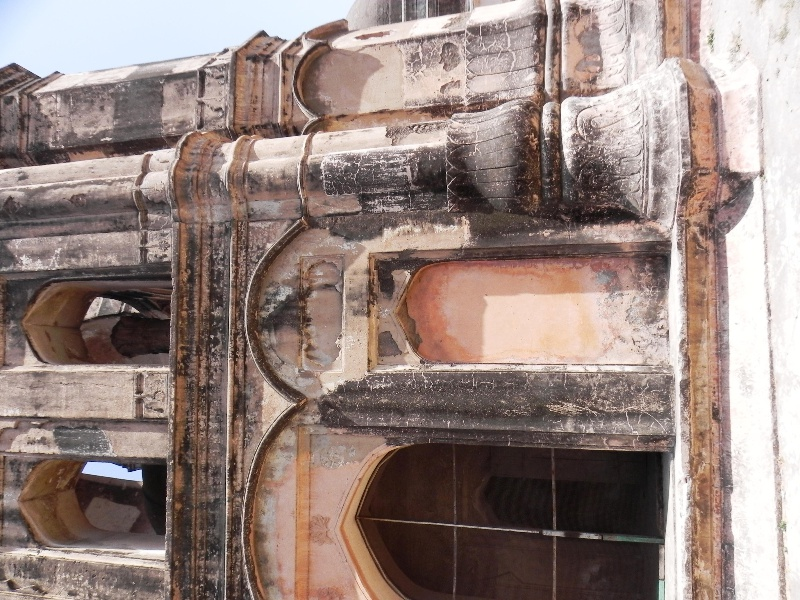Spalling: (374, 326, 406, 372), (438, 36, 468, 74)
